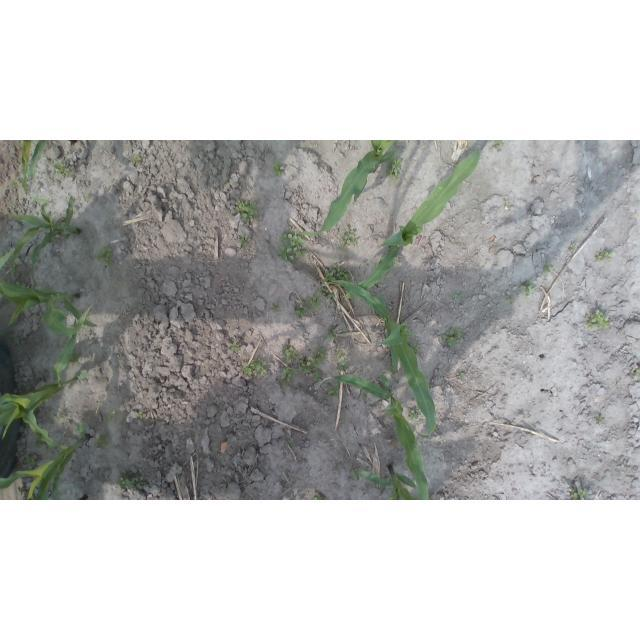Maize: (344, 145, 481, 300), (323, 277, 439, 441), (0, 303, 94, 438), (333, 372, 429, 500), (298, 141, 394, 238), (0, 248, 98, 336), (0, 409, 90, 500), (8, 194, 81, 276), (20, 140, 76, 196), (354, 464, 416, 501)
Weeds: (298, 347, 326, 381), (276, 231, 306, 262), (323, 263, 354, 284), (235, 200, 260, 223), (586, 309, 610, 331), (243, 358, 270, 377), (385, 157, 403, 180), (119, 475, 146, 490), (443, 328, 463, 347), (340, 227, 356, 250), (95, 246, 113, 266), (280, 368, 297, 389), (52, 160, 71, 177), (520, 280, 536, 297), (307, 292, 322, 310), (95, 432, 109, 449), (282, 346, 296, 362), (319, 285, 335, 299), (327, 381, 340, 397), (409, 408, 424, 421), (570, 488, 586, 500), (272, 161, 284, 176), (26, 455, 37, 470), (596, 251, 612, 261), (296, 304, 309, 316), (408, 342, 420, 355), (34, 436, 46, 448), (324, 330, 337, 341), (351, 467, 361, 481), (69, 351, 80, 363), (108, 410, 119, 422), (337, 361, 349, 372), (544, 263, 553, 274), (240, 235, 249, 245), (18, 483, 25, 495), (314, 493, 326, 500), (491, 141, 503, 148), (230, 342, 239, 351), (505, 295, 513, 305), (503, 199, 512, 207), (136, 411, 144, 420), (10, 180, 18, 189), (335, 350, 345, 357), (53, 415, 61, 423), (456, 291, 463, 299), (570, 243, 579, 249), (597, 415, 605, 421), (272, 303, 280, 309), (134, 156, 140, 164), (635, 368, 640, 375), (286, 440, 293, 445), (457, 372, 464, 376)
